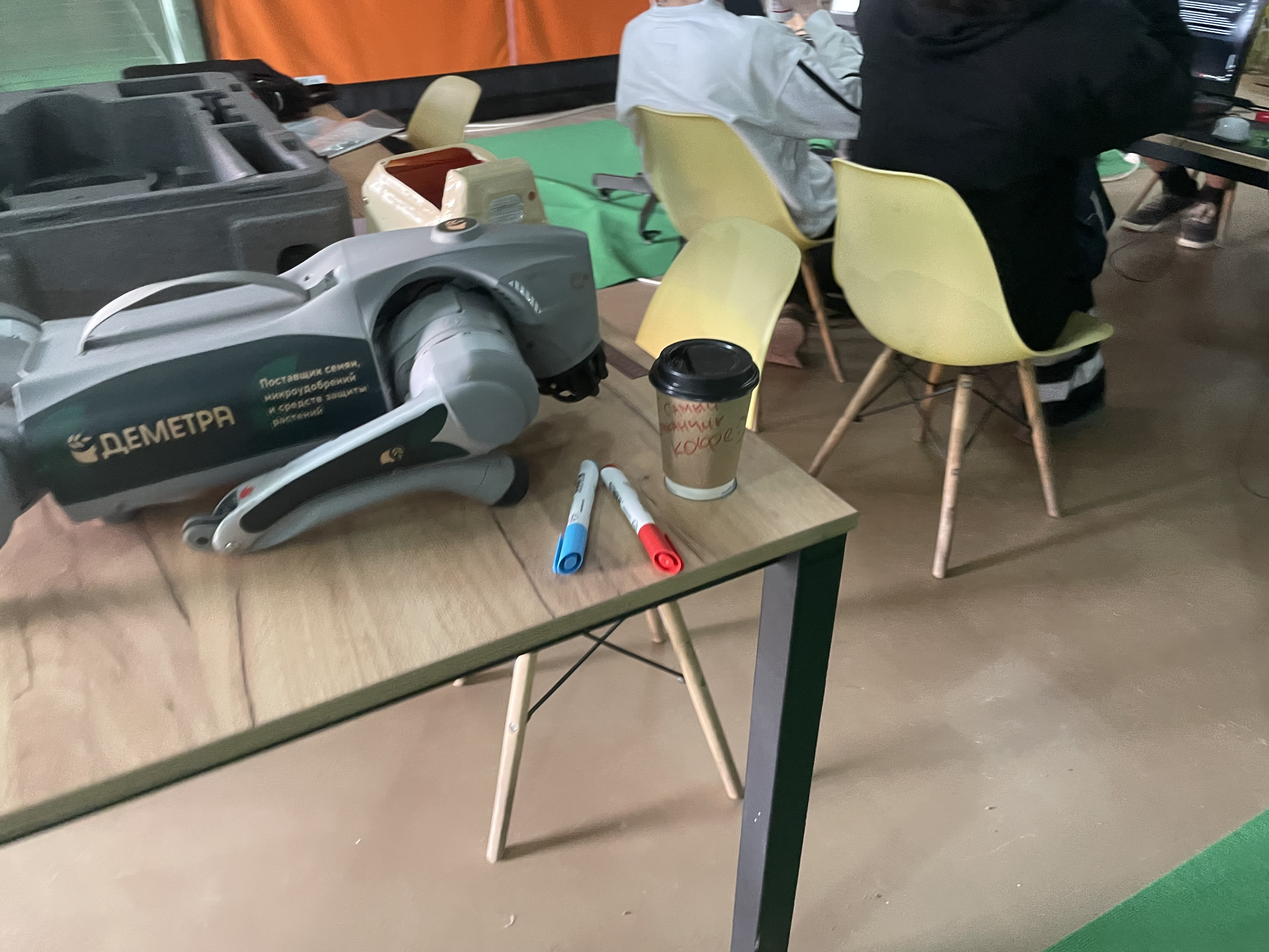cup: (648, 339, 760, 500)
